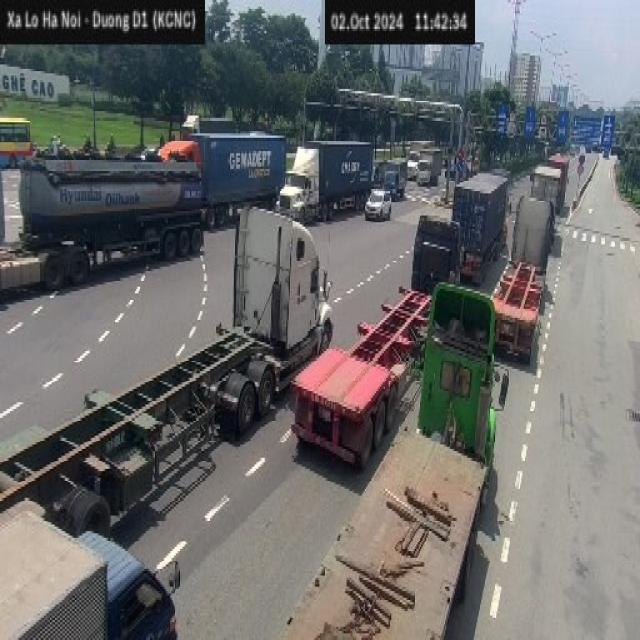bus: (0, 116, 31, 166)
car: (364, 187, 391, 220)
container-truck: (0, 206, 338, 521), (277, 271, 514, 640), (292, 208, 466, 483)
truck: (0, 508, 182, 640), (278, 138, 372, 222)
